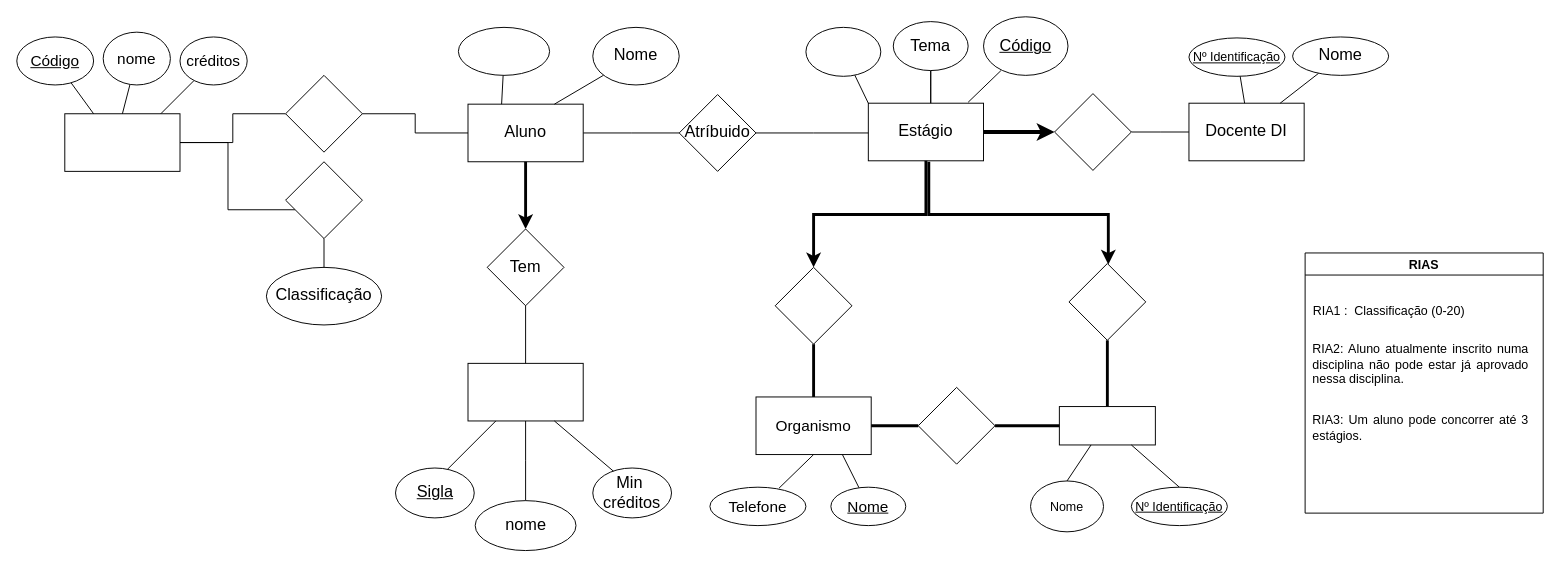
This 1560x567 diagram has some shape labels left out. The box of each missing label's shape, as (x1, y1, x2, y2) in pixels:
Aprovados: (285, 161, 362, 239)
Curso: (467, 362, 583, 421)
Disciplina: (64, 113, 180, 171)
Inscritos: (285, 74, 362, 152)
Número: (457, 26, 550, 75)
Oferece: (774, 266, 852, 344)
Orienta: (1054, 93, 1131, 170)
Superior Externo: (1058, 406, 1155, 445)
Supervisionado: (1068, 263, 1146, 340)
Trabalha: (917, 386, 995, 464)
Área: (805, 26, 881, 76)
